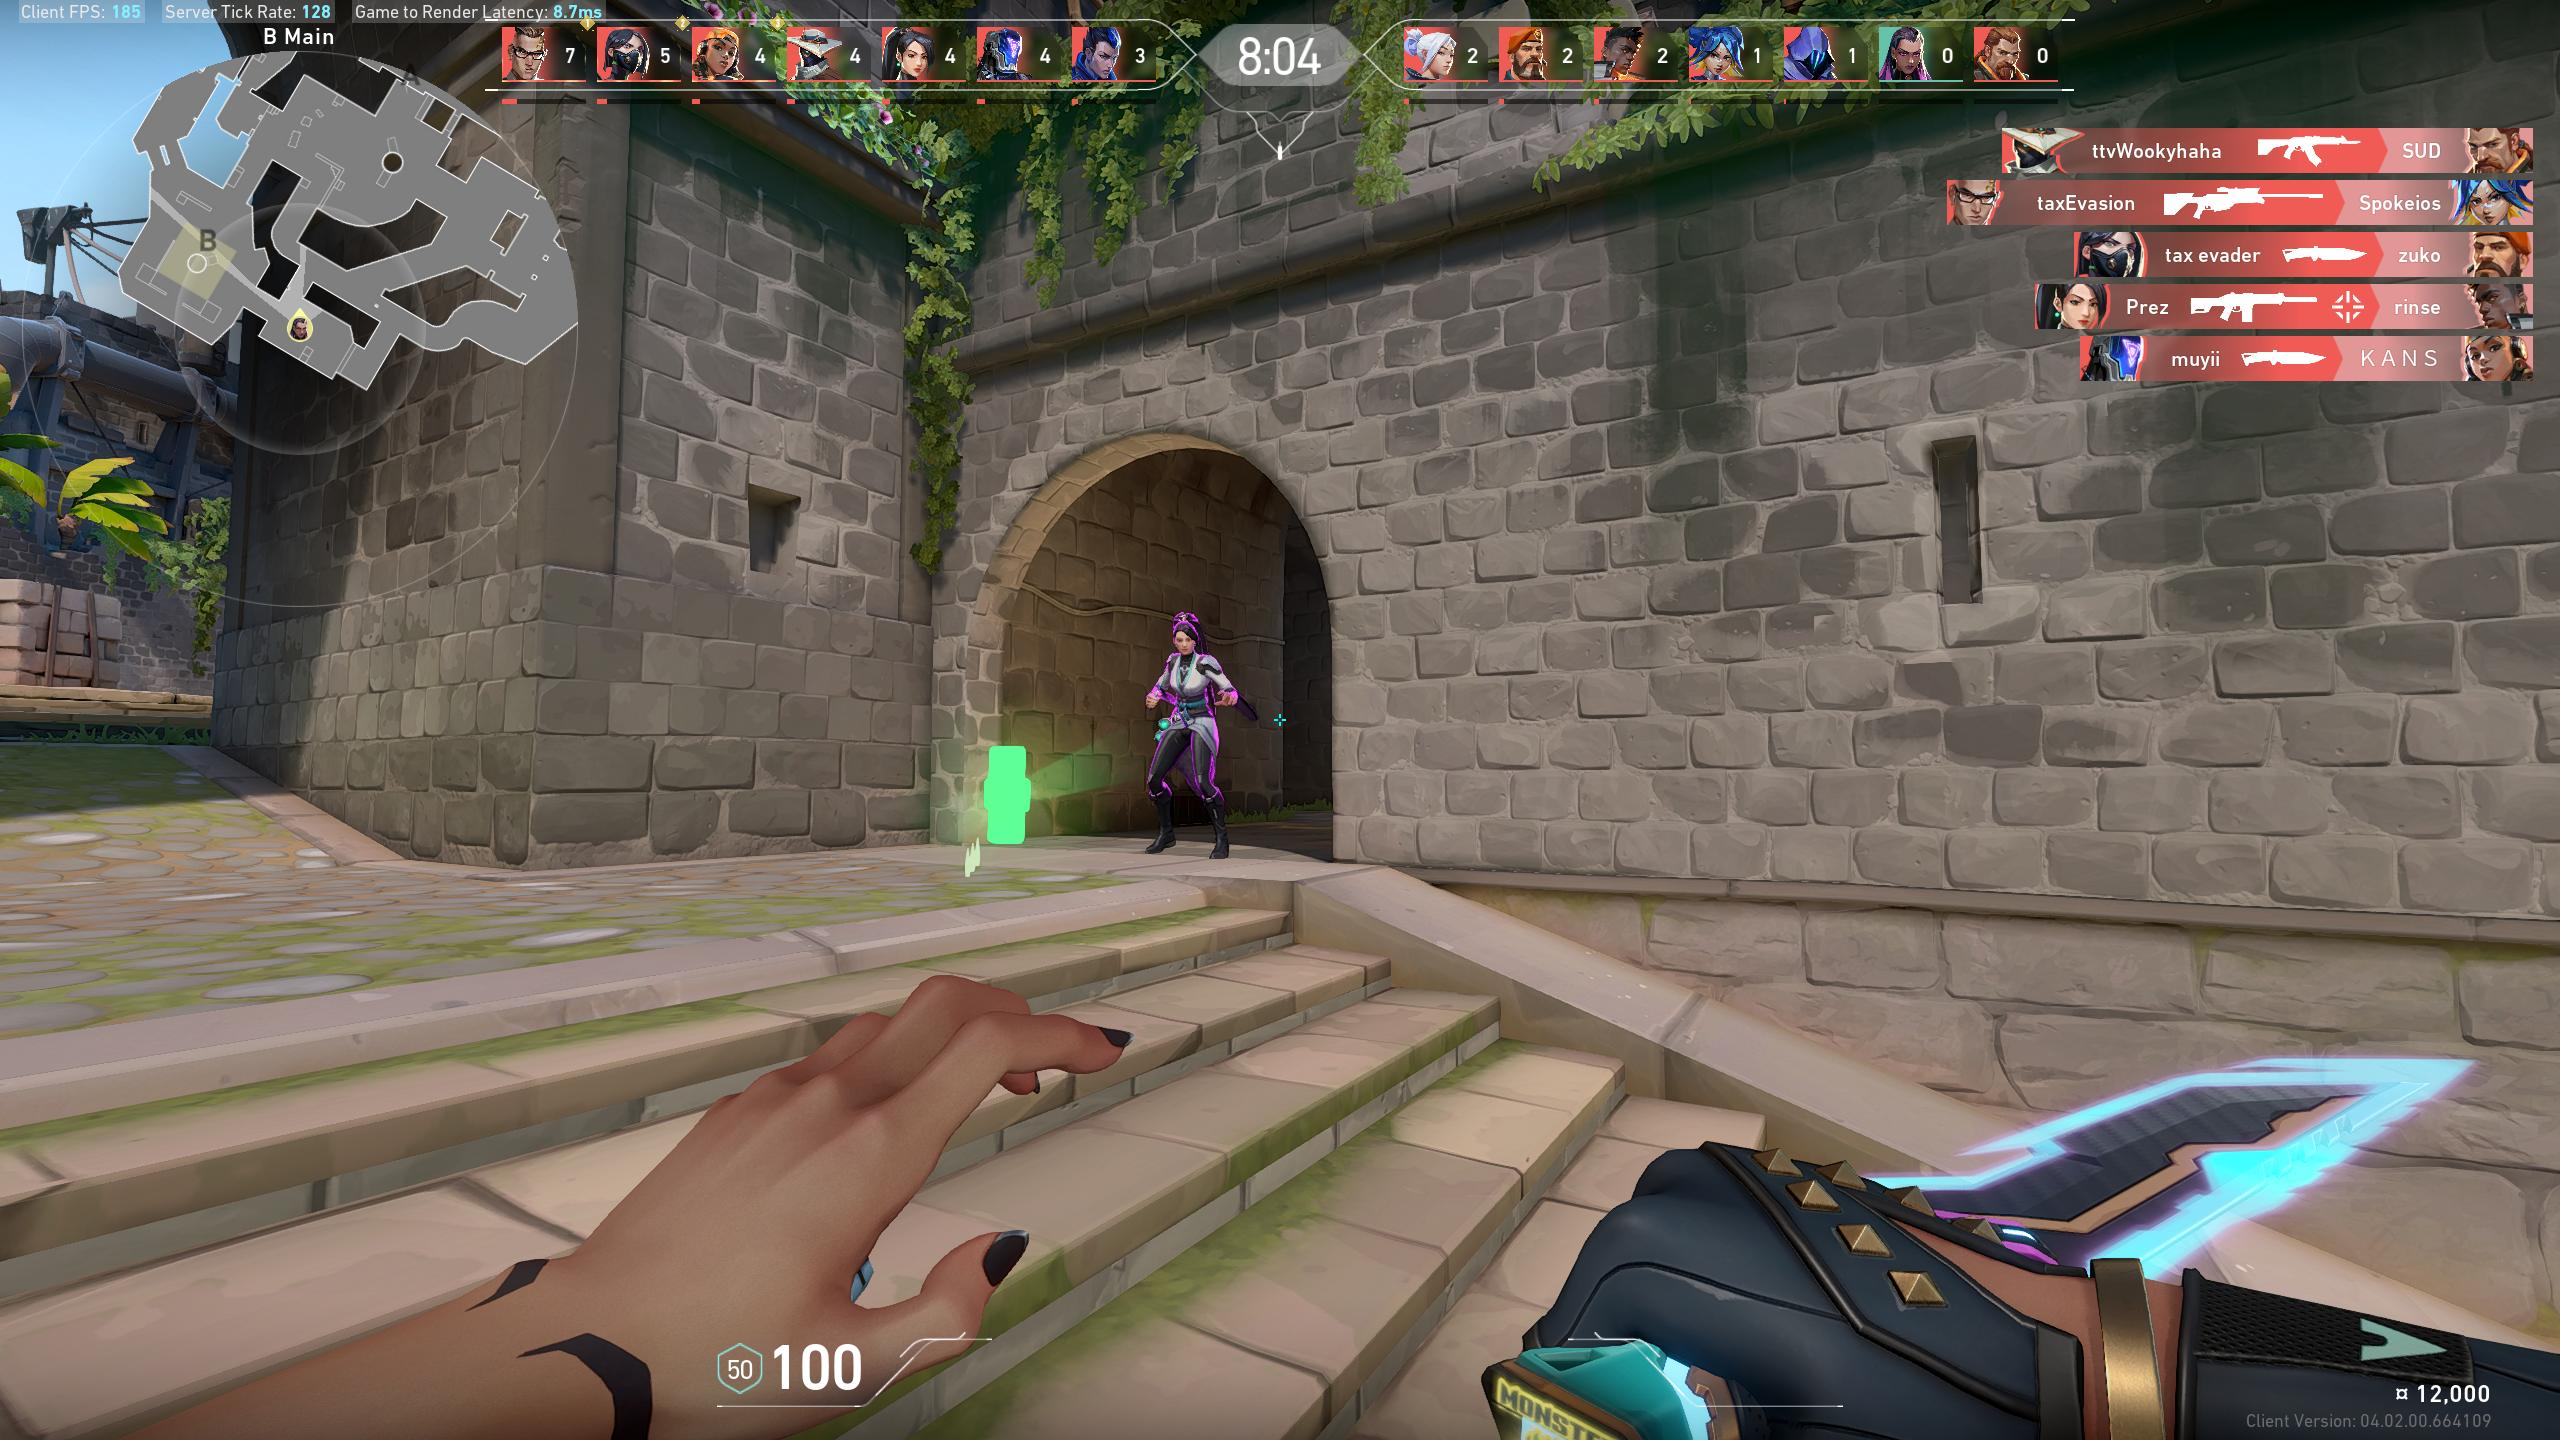enemyBody: (1176, 656, 1203, 702)
enemyHead: (1176, 628, 1194, 651)
